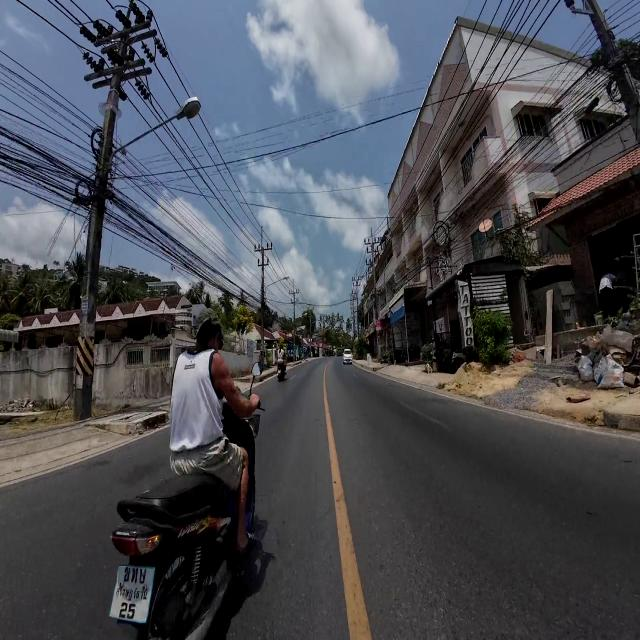car: (343, 350, 352, 364)
motorcycle: (110, 474, 237, 639), (277, 361, 286, 381)
